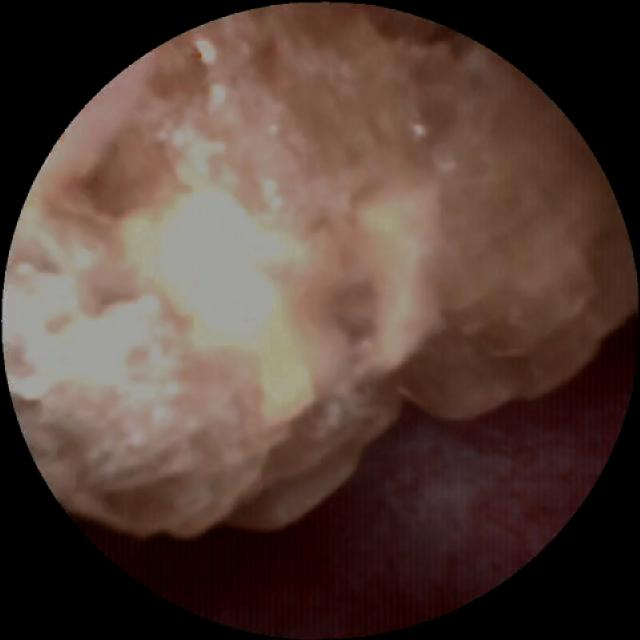stone: (8, 8, 632, 540)
tissue: (135, 349, 623, 626)
